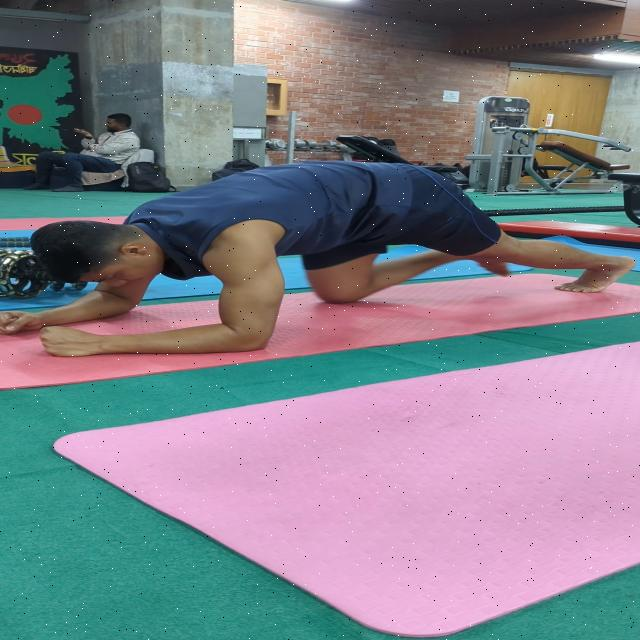Normal_MountainClimbers: (0, 146, 640, 358)
